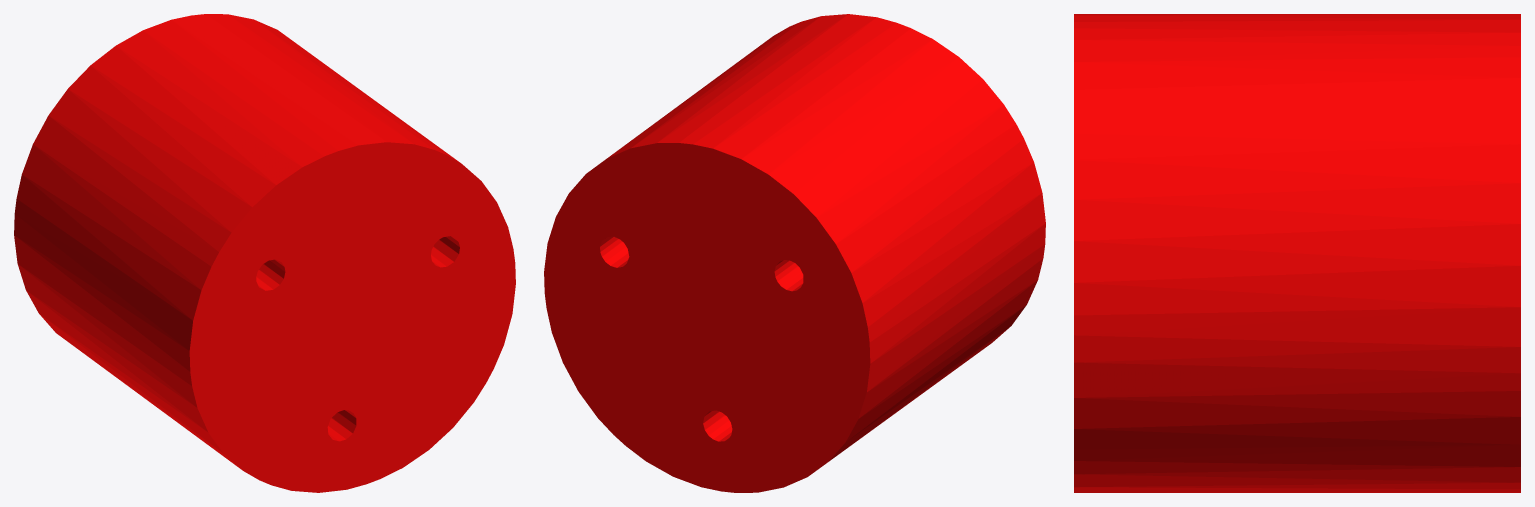
File: right_arm_1_hand_1_x4_2_inner_1.glb
3 renders of one model, left to right at view 1: azimuth 30°, elevation 25°; view 2: azimuth 150°, elevation 25°; view 3: azimuth 270°, elevation 25°, orthographic. The views are drawn at different scales.
Visible parts, largest first — view 1: right_arm_1_hand_1_x4_2_inner_1.obj; view 2: right_arm_1_hand_1_x4_2_inner_1.obj; view 3: right_arm_1_hand_1_x4_2_inner_1.obj.
Part boxes in pixels (left/top/right/bottom): right_arm_1_hand_1_x4_2_inner_1.obj: left=14, top=14, right=515, bottom=492; right_arm_1_hand_1_x4_2_inner_1.obj: left=544, top=14, right=1045, bottom=492; right_arm_1_hand_1_x4_2_inner_1.obj: left=1074, top=14, right=1520, bottom=492.
Bounding box in the file's own units: 0.037 × 0.037 × 0.0345.
